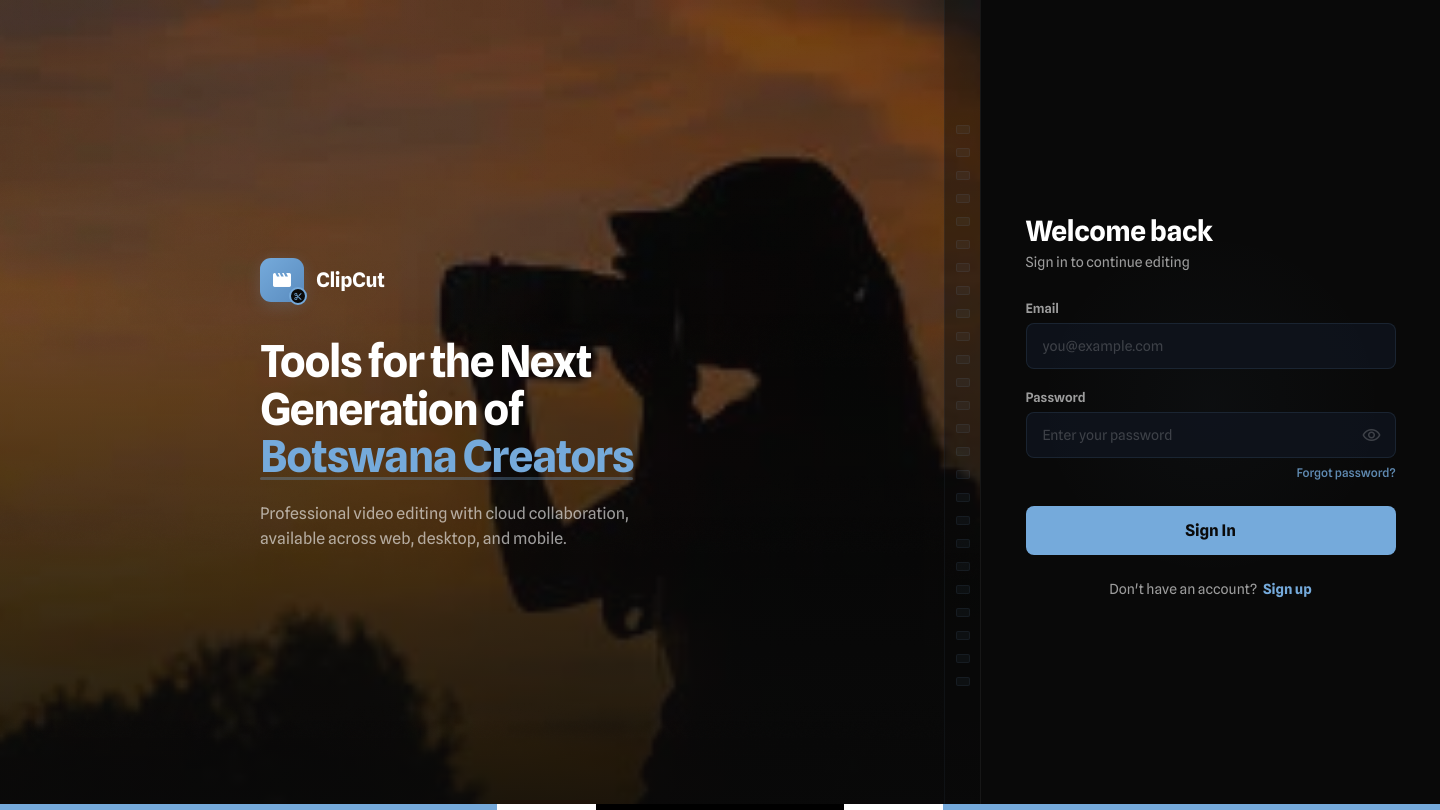
Test: DesktopLogin › shows email validation error for invalid email
In the field labelled "Email": (1210, 346) 1026,322 -> 1396,368, type "notanemail"
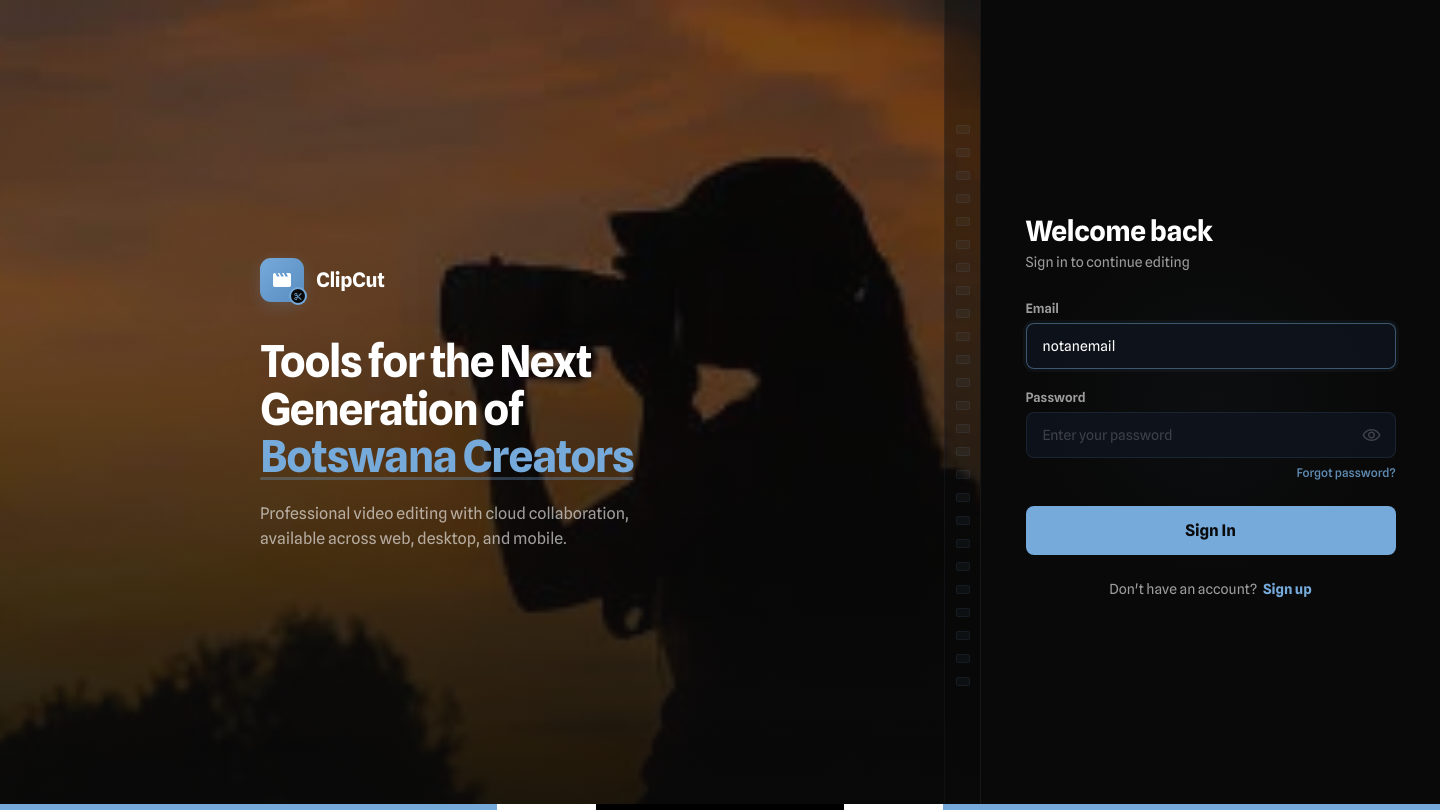
In the password field labelled "Password": (1210, 434) 1026,412 -> 1396,458, type "somepass"
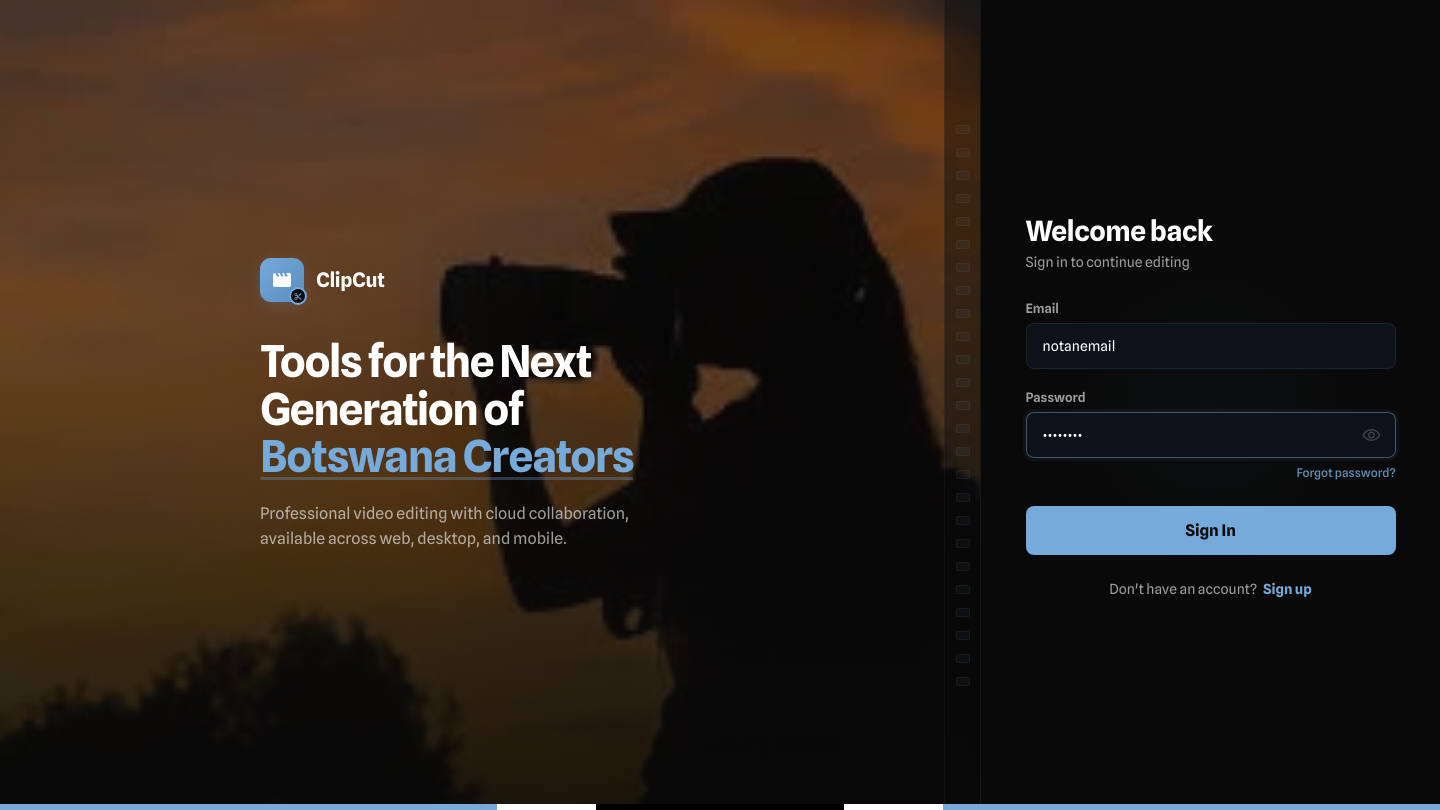
Click the button "Sign In": (1210, 530) 1026,506 -> 1396,554
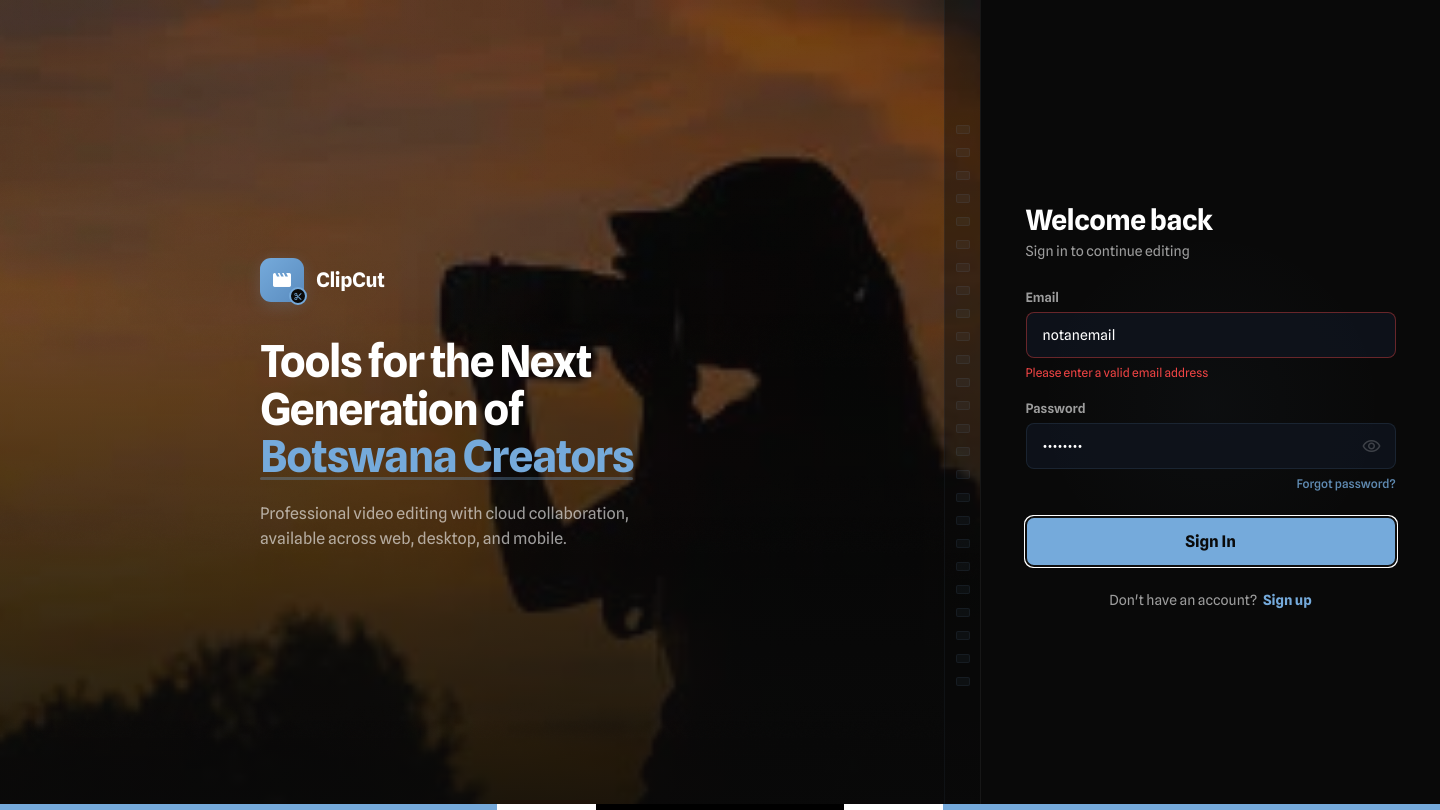
Check: the text "Please enter a valid email address" is shown, box 1026,364 -> 1208,380
